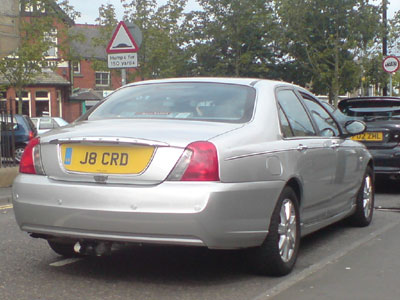licencePlate: (62, 142, 155, 172)
